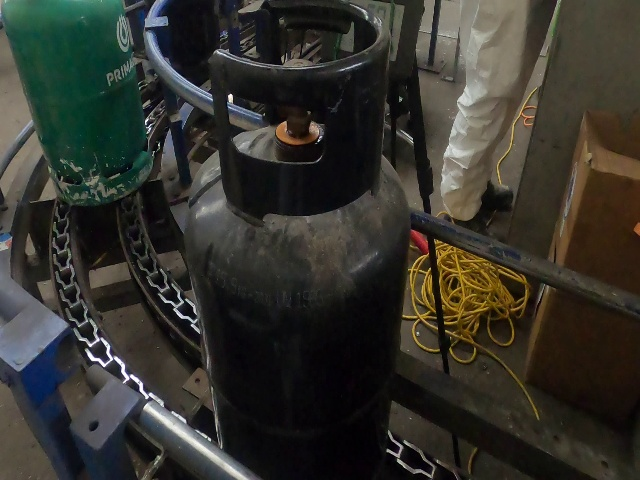gas_bottle: (0, 0, 638, 478)
